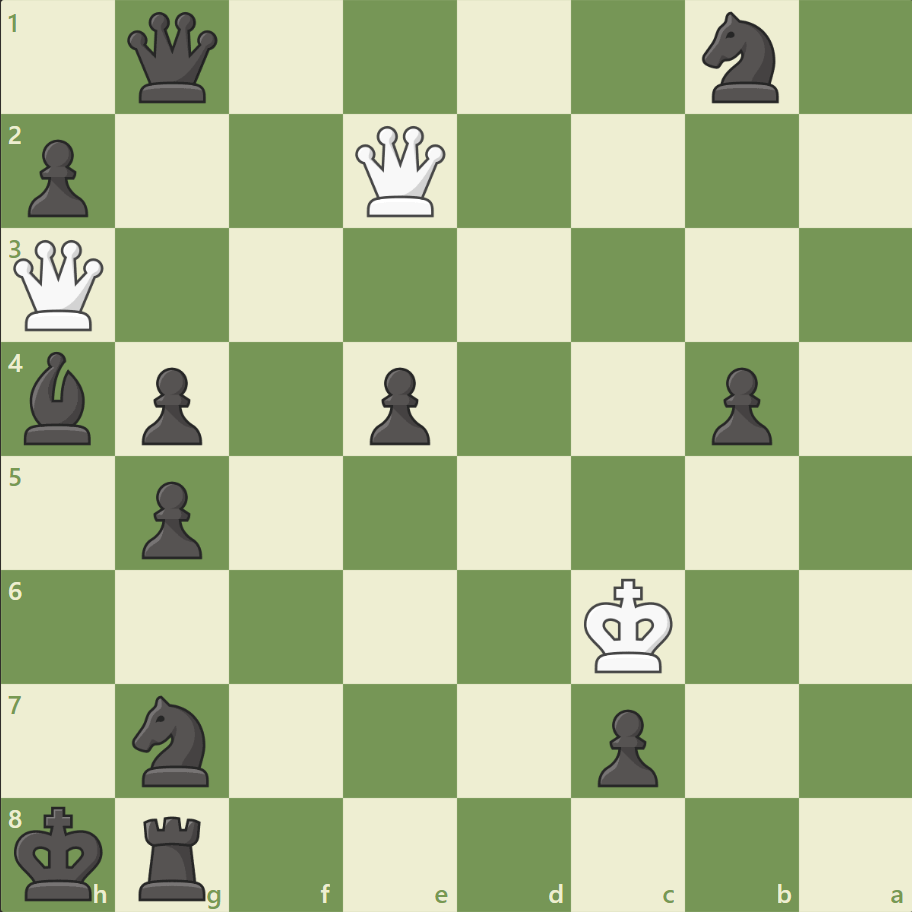K: (579, 571, 679, 679)
Q: (351, 122, 450, 222), (10, 236, 109, 335)
b: (17, 347, 101, 449)
k: (11, 798, 111, 906)
n: (124, 688, 222, 791), (692, 7, 789, 110)
p: (133, 473, 208, 564), (701, 359, 776, 450), (133, 359, 208, 450), (20, 132, 95, 223), (588, 700, 662, 791), (361, 359, 435, 450)
q: (124, 9, 223, 108)
r: (133, 806, 215, 904)
